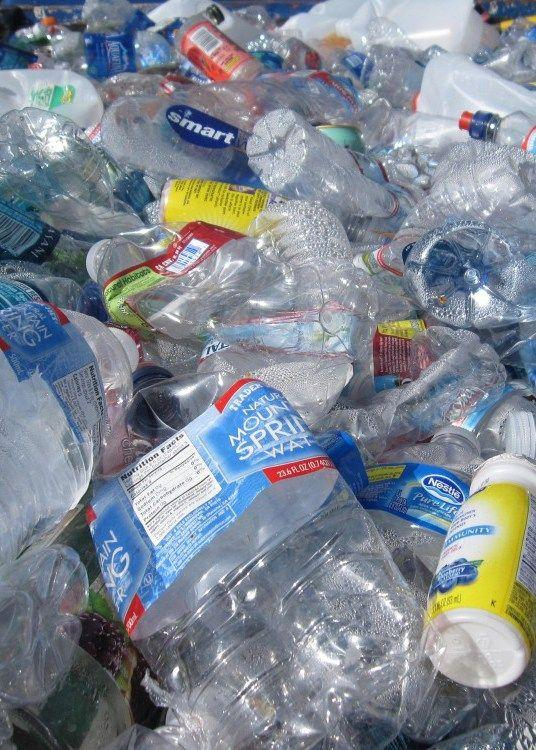HDPE: (127, 361, 184, 440), (104, 316, 142, 376), (501, 405, 536, 463), (457, 107, 499, 142)
PETE: (84, 370, 444, 750), (95, 221, 376, 365), (0, 299, 135, 567), (244, 106, 419, 221), (0, 103, 146, 238), (399, 217, 536, 330), (0, 541, 92, 706)
PP: (420, 454, 536, 688)
